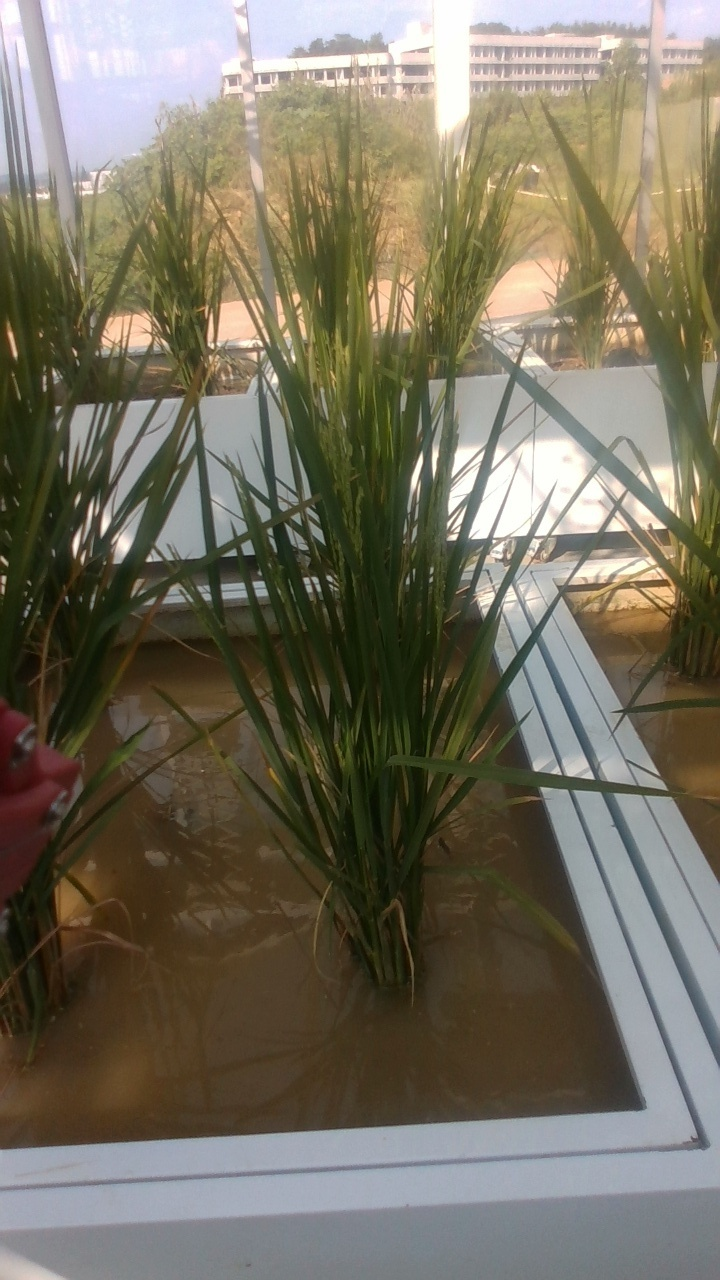rice_plant: (237, 300, 537, 976)
